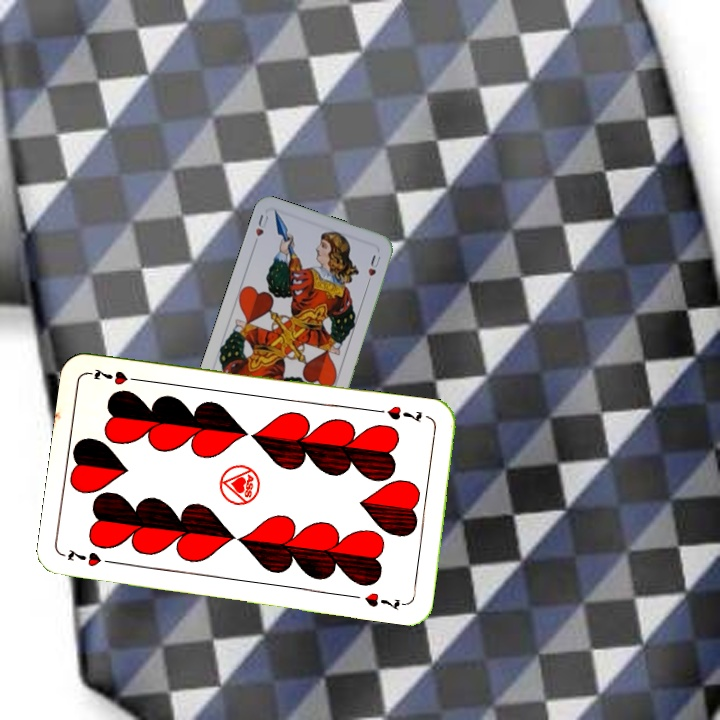H7: (63, 545, 120, 569), (383, 401, 425, 425)
HU: (249, 210, 271, 249)
